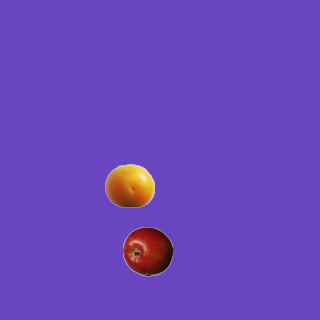Apple Braeburn: (122, 226, 172, 276)
Cherry Wax Yellow: (104, 160, 154, 210)
